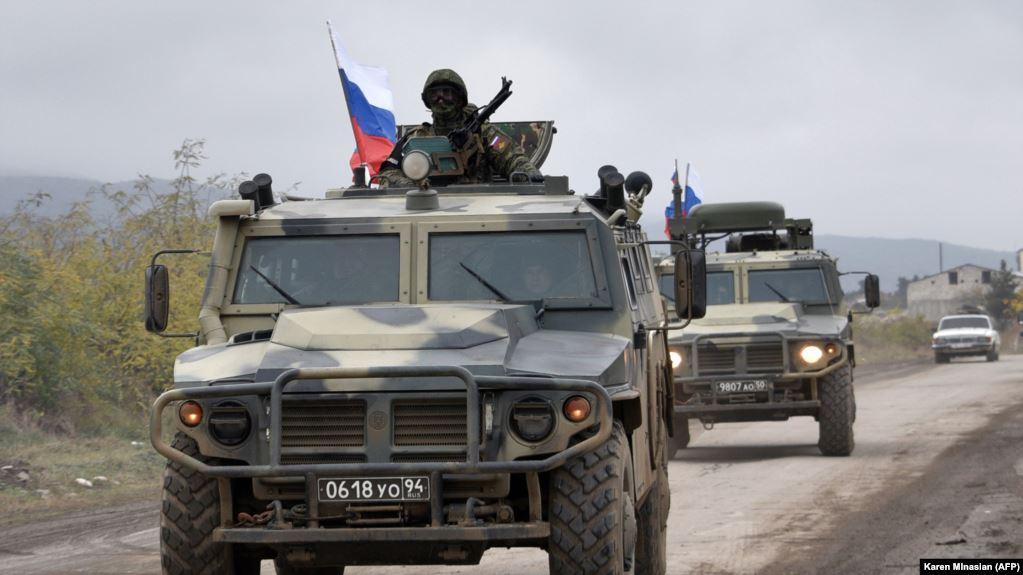armored_car: (144, 118, 707, 575), (654, 200, 882, 457)
car: (933, 308, 1000, 366)
